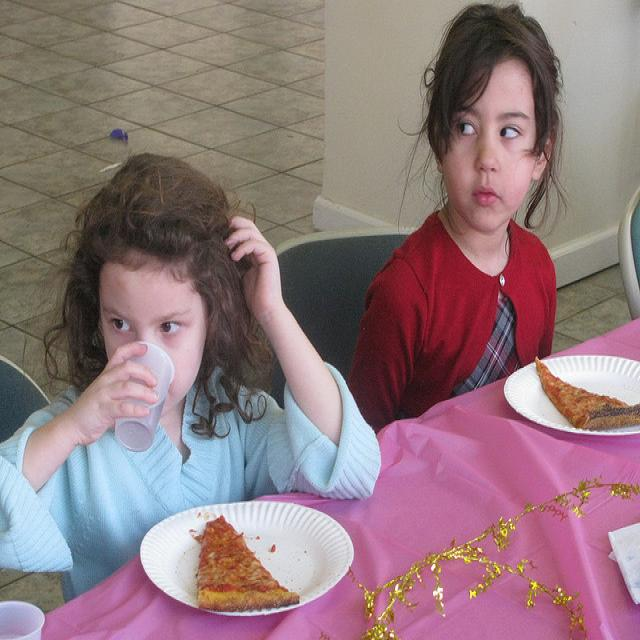chair: (277, 227, 419, 381), (1, 358, 50, 443), (619, 182, 639, 319)
dining table: (46, 316, 640, 633)
